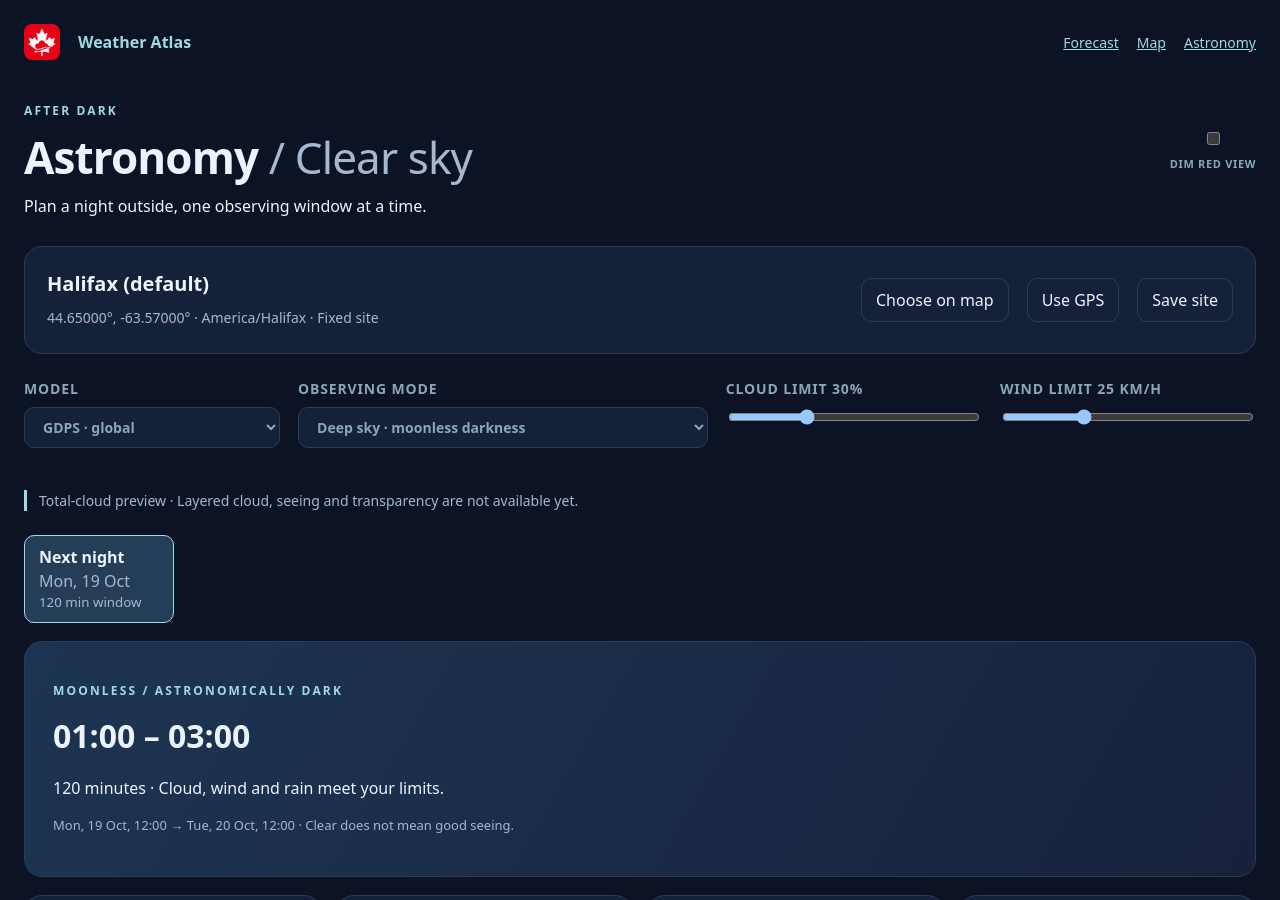
Scenario: cancelling the map leaves the active site unchanged
The image size is (1280, 900).
Expected: the text "120 minutes · Cloud, wind and rain meet your limits." is shown, [53, 777, 444, 799]
Click the button "Choose on map": (935, 300) [861, 278, 1009, 322]
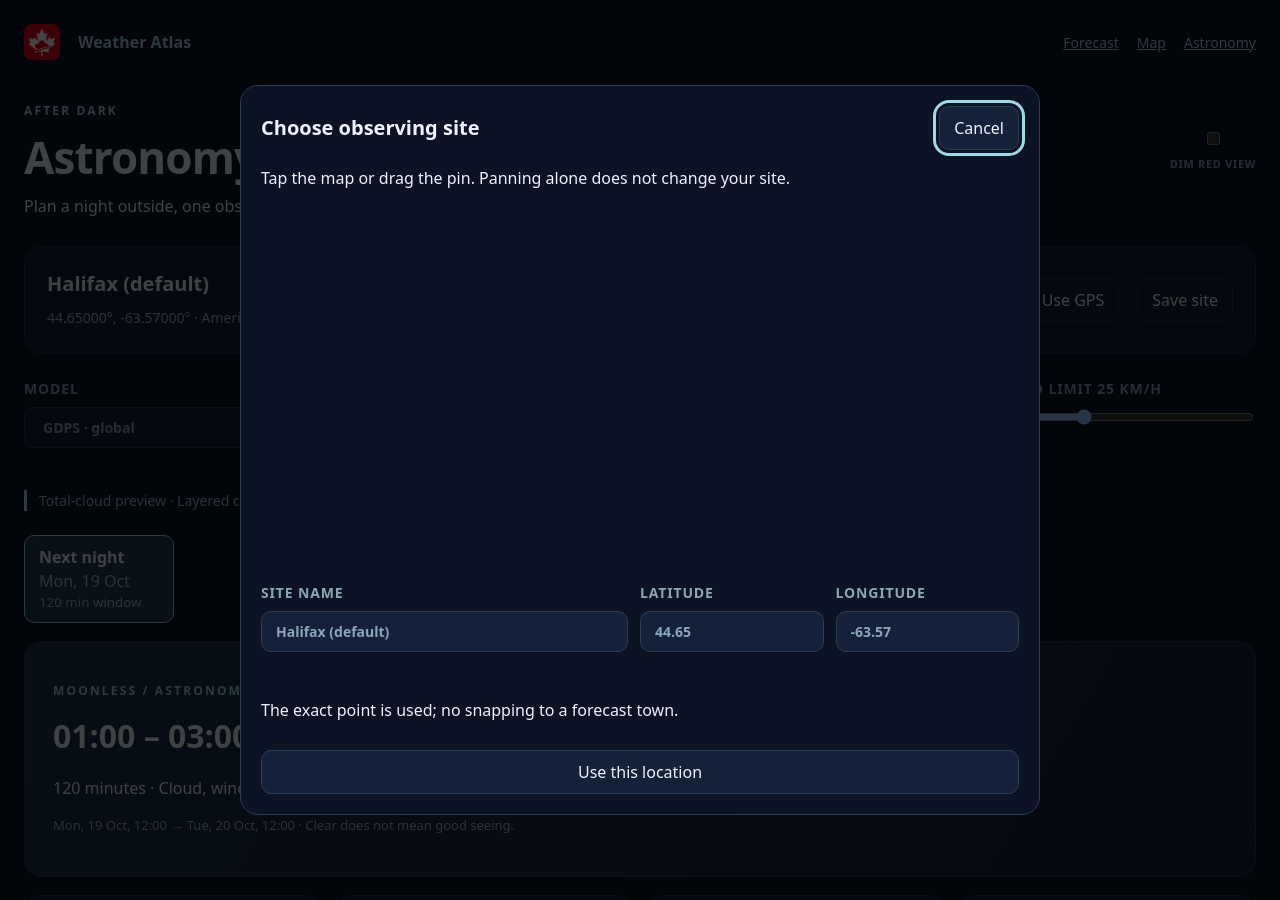
Replace the text in the field labelled "Latitude" with "50": (732, 632) [640, 611, 824, 652]
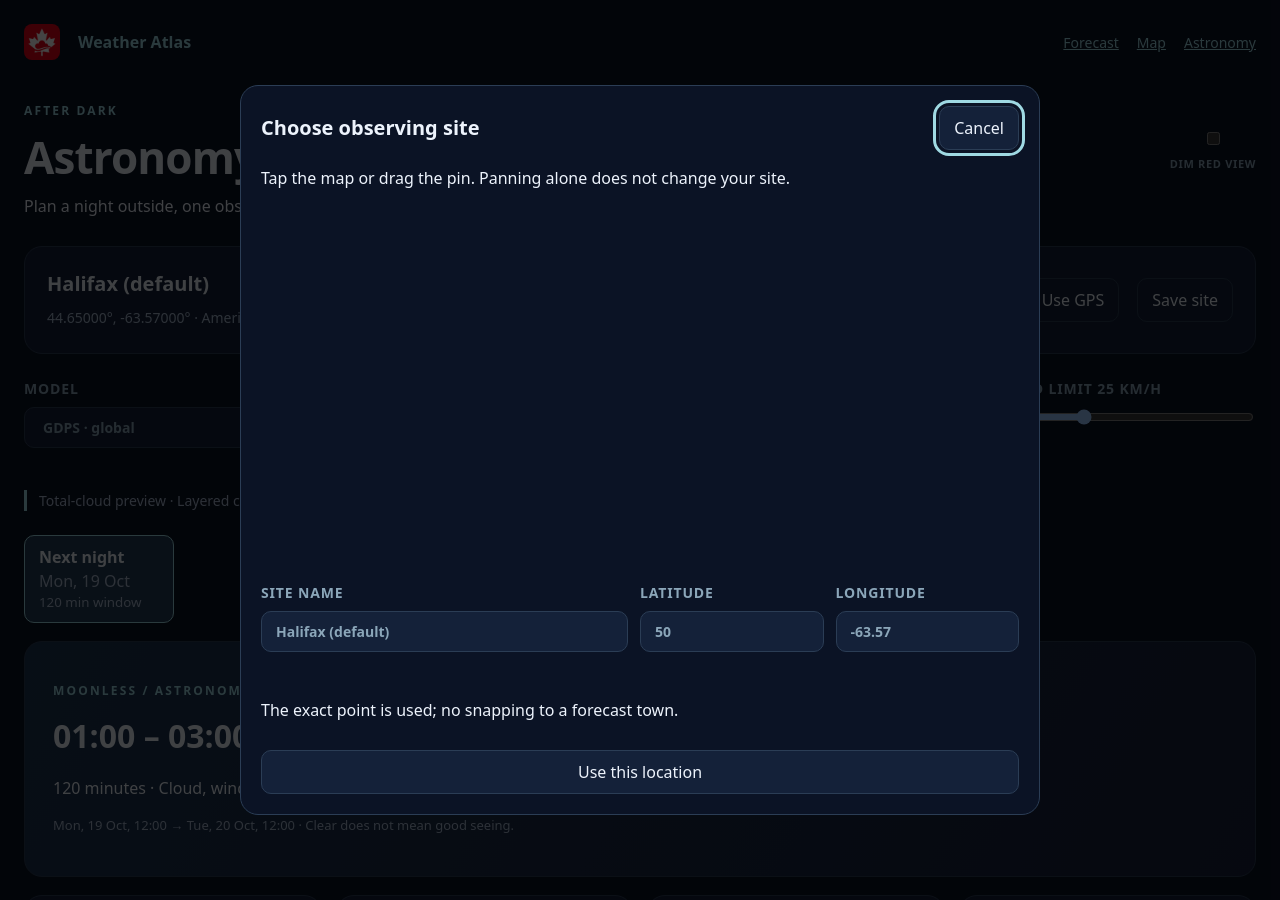
Press Escape
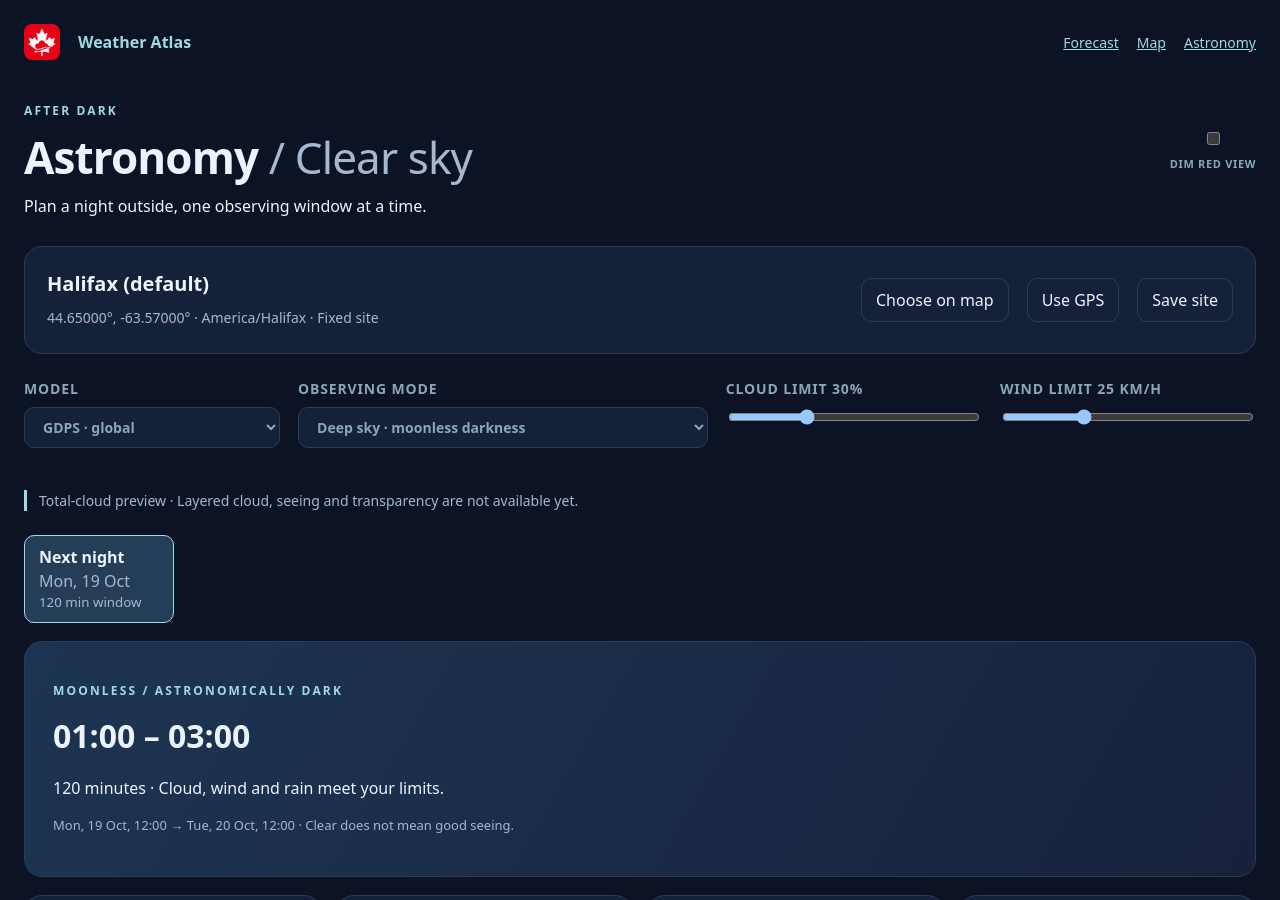
Expected: the heading "Halifax (default)" is shown, [47, 270, 209, 297]
Expected: the dialog is gone
